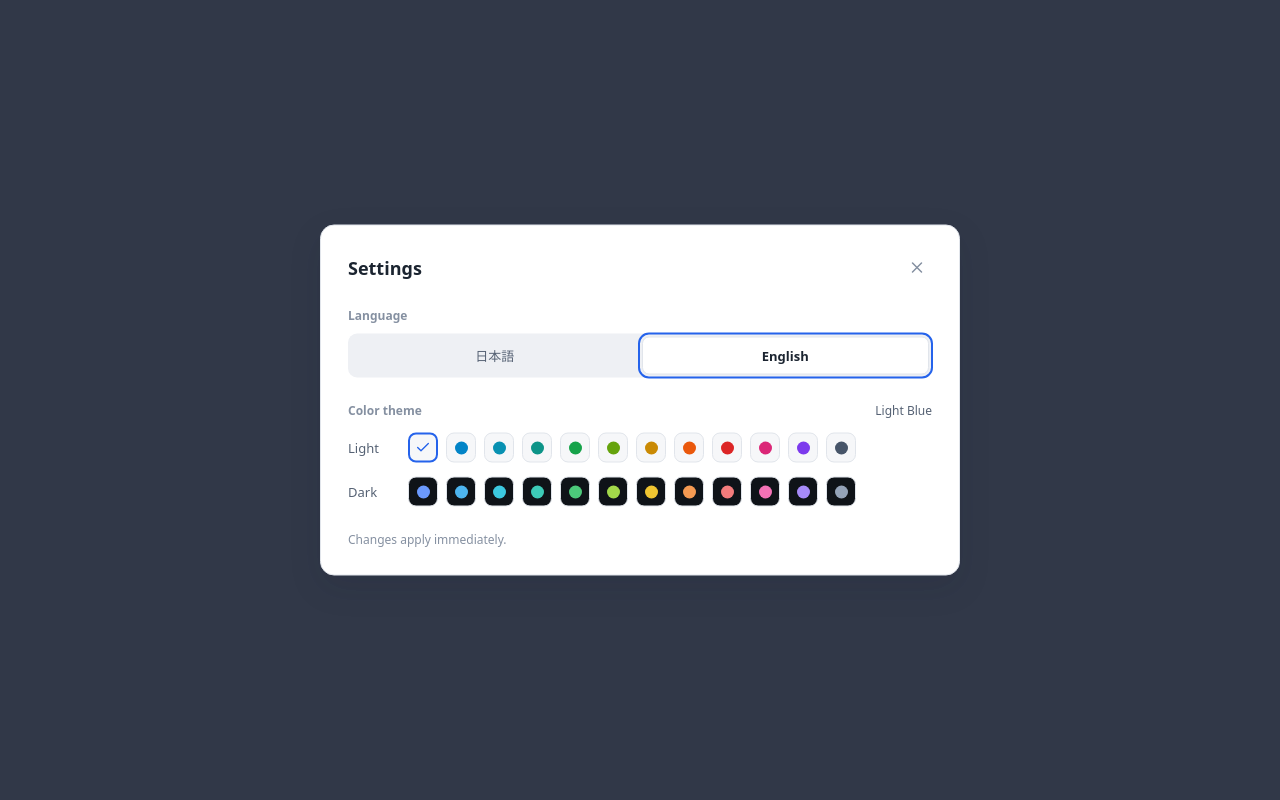
Test: SettingsDialog saving › keeps the choice on the page and shows the save error when the save fails
This screenshot has width=1280, height=800.
What coordinates should you click on to do the following:
click the radio button named "Light Red"
I would click on:
 (727, 448)
Its box is [712,432,742,462].
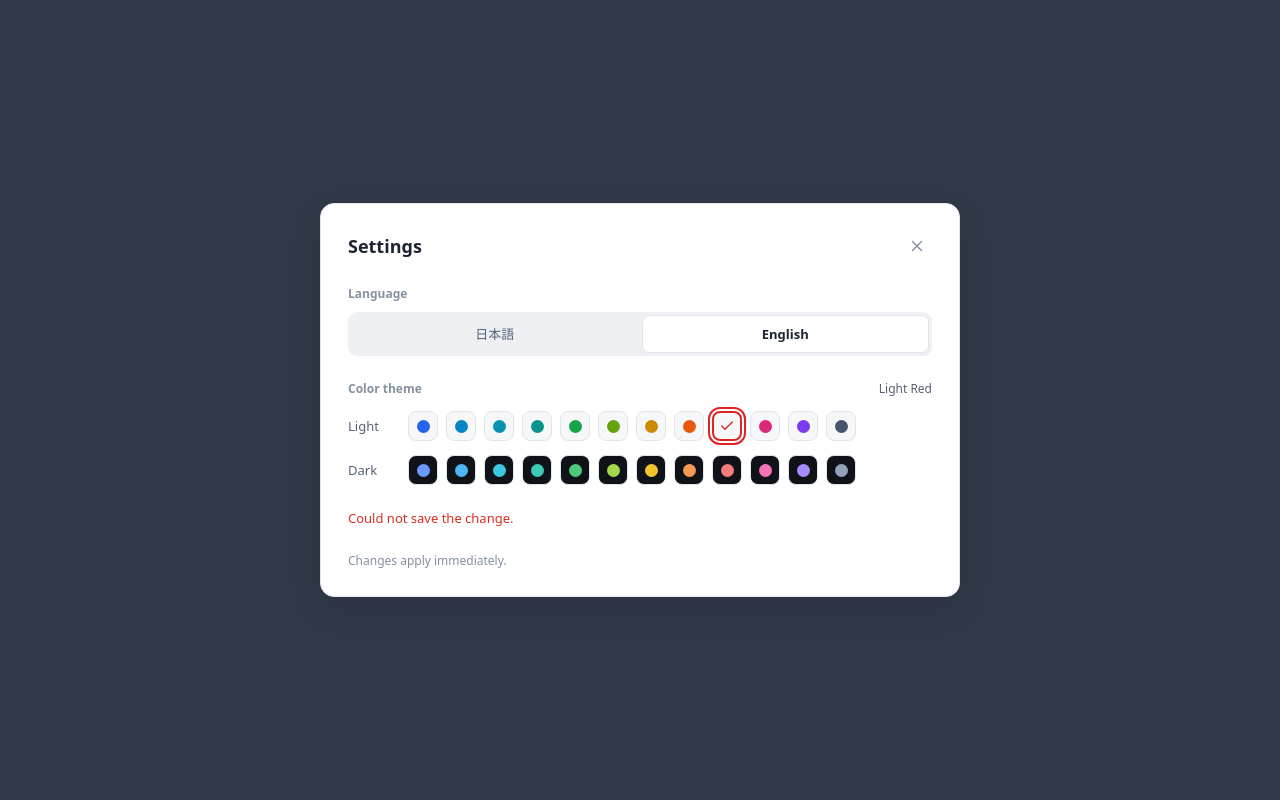
Expected: the message "Could not save the change." is shown, [348,509,514,527]
